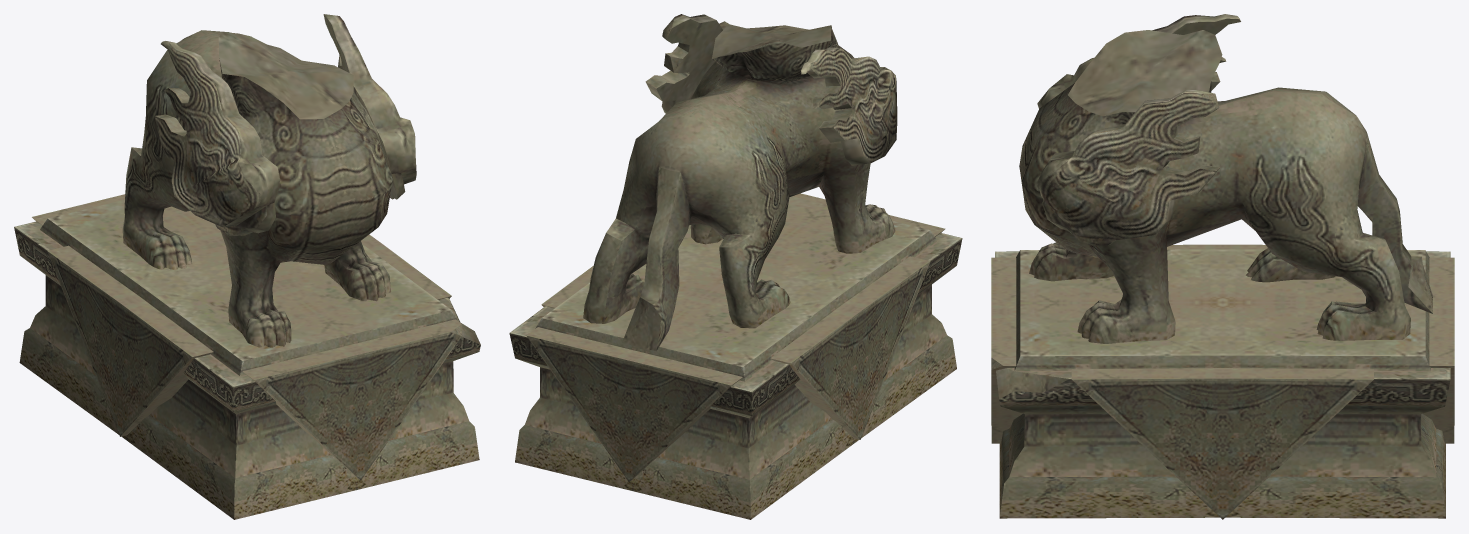
Rendered from Scene_Build_TaZiShaMo_PoSunShiZi_2.FBX.
3 renders of one model, left to right at view 1: azimuth 30°, elevation 25°; view 2: azimuth 150°, elevation 25°; view 3: azimuth 270°, elevation 25°, orthographic. The views are drawn at different scales.
Visible parts, largest first — view 1: Scene_Build_TaZiShaMo_PoSunShiZi_2; view 2: Scene_Build_TaZiShaMo_PoSunShiZi_2; view 3: Scene_Build_TaZiShaMo_PoSunShiZi_2.
Boxes of the visible parts, x1,y1,x2,y2 form: Scene_Build_TaZiShaMo_PoSunShiZi_2: (14,14,480,519); Scene_Build_TaZiShaMo_PoSunShiZi_2: (509,14,962,519); Scene_Build_TaZiShaMo_PoSunShiZi_2: (991,14,1454,519).
Size of the model in its own units: 231 by 331 by 343.
